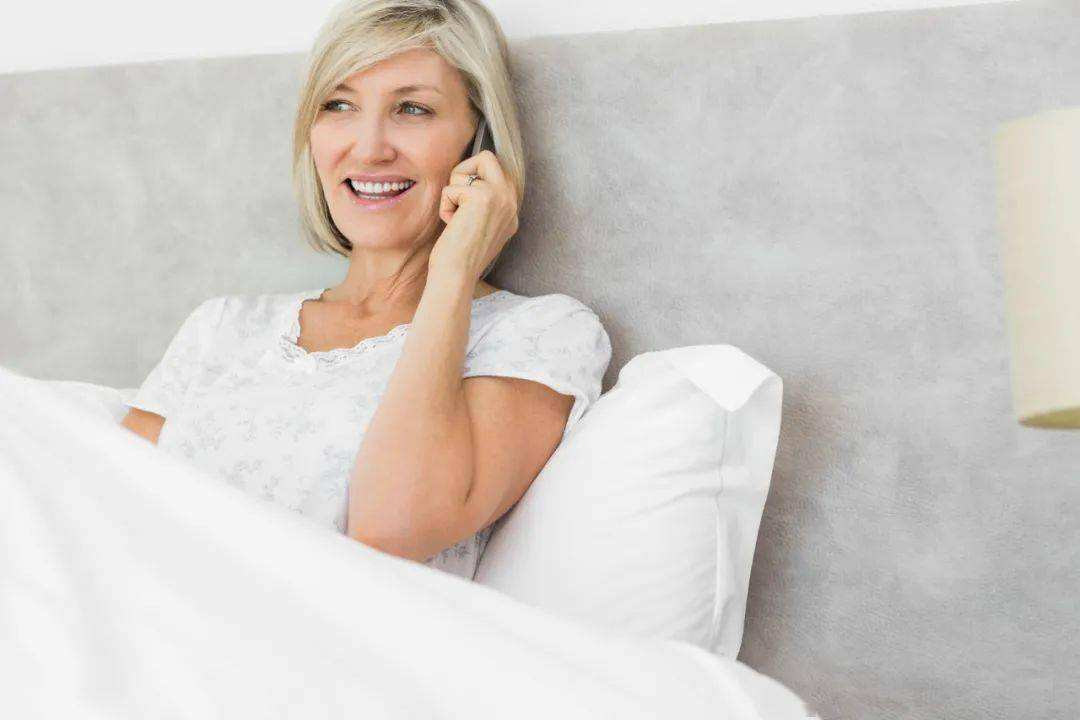calling: (428, 109, 524, 281)
